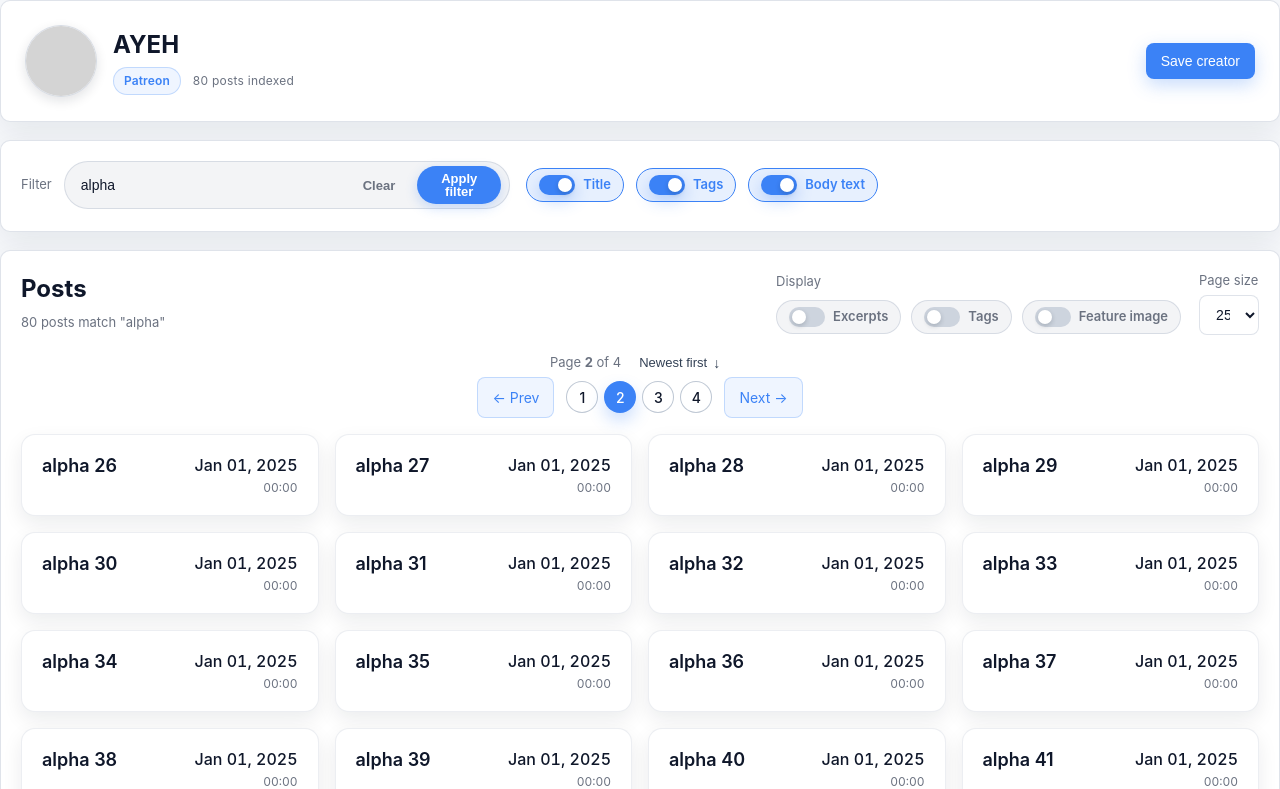
Test: CreatorPage page-size control behavior › resets filtered pagination to first page on page-size change without remembering unfiltered position
The width and height of the screenshot is (1280, 789).
Expected: the text "alpha 26" is shown, [42,454,117,476]
Select "100" in the dropdown labelled "Page size": (1229, 314) [1199,294,1259,334]
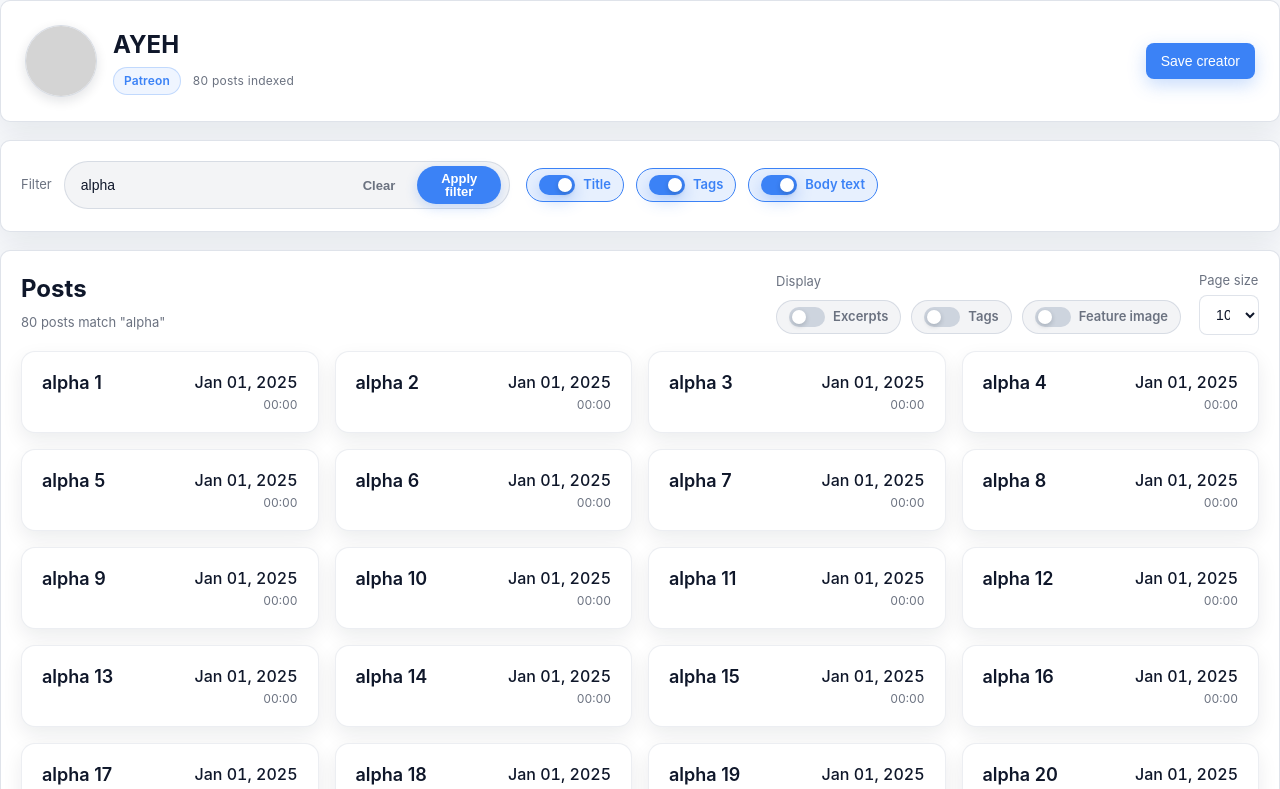
Now no links "Next" are shown
